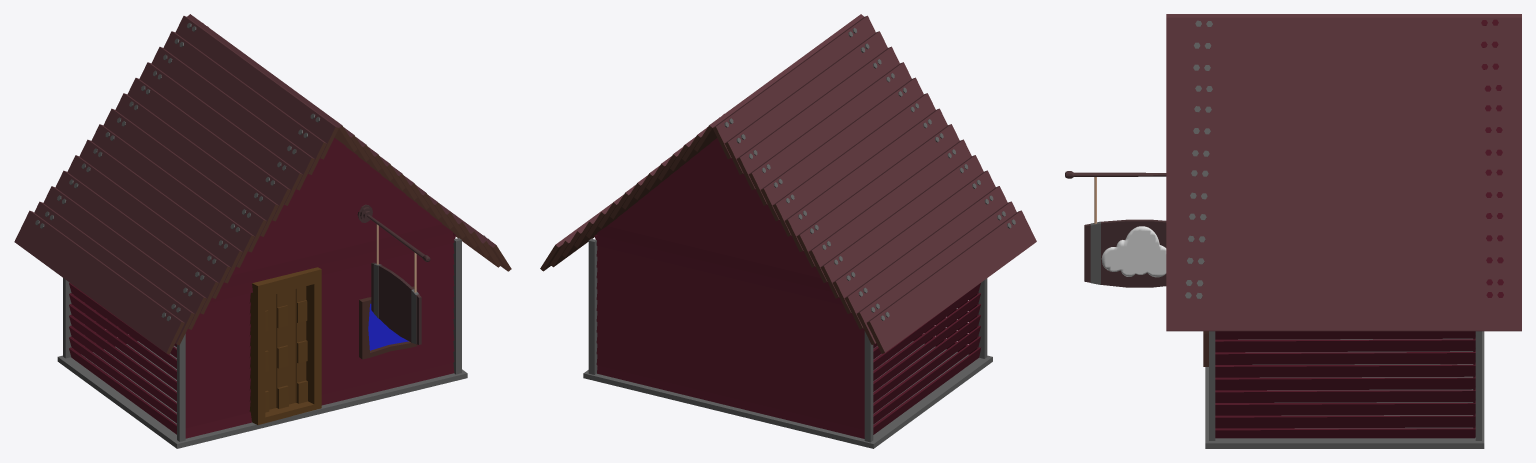
File: CasaNuvem.fbx
The picture shows the model from 3 angles, left to right: view 1: azimuth 30°, elevation 25°; view 2: azimuth 150°, elevation 25°; view 3: azimuth 270°, elevation 25°; orthographic projection. The views are drawn at different scales.
Visible parts, largest first — view 1: CasaNuvem, PortaNuvem; view 2: CasaNuvem; view 3: CasaNuvem.
Part boxes in pixels (box(x1,y1,x2,y2)): CasaNuvem: box(14, 14, 511, 448); PortaNuvem: box(249, 267, 321, 424); CasaNuvem: box(540, 14, 1036, 448); CasaNuvem: box(1065, 14, 1521, 448).
Size of the model in its own units: 571 by 473 by 559.
